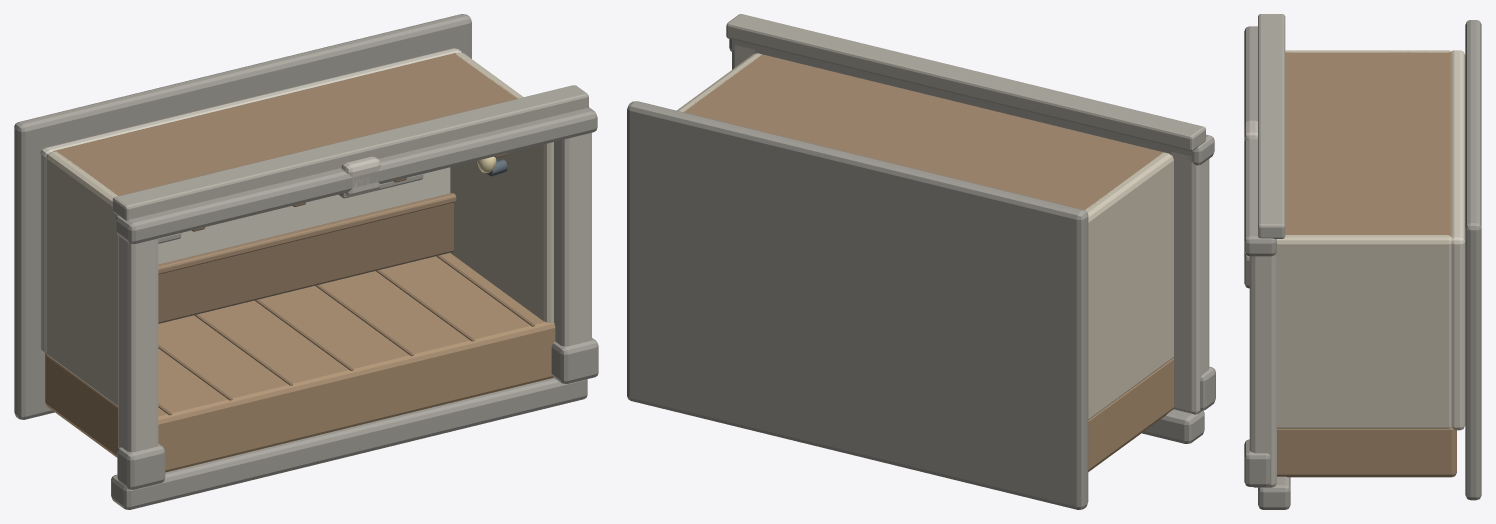
Rendered from room.glb.
The picture shows the model from 3 angles, left to right: view 1: azimuth 30°, elevation 25°; view 2: azimuth 150°, elevation 25°; view 3: azimuth 270°, elevation 25°; orthographic projection. The views are drawn at different scales.
Visible parts, largest first — view 1: room_Palette; view 2: room_Palette; view 3: room_Palette.
Part boxes in pixels (x1=…): room_Palette: x1=14, y1=14, x2=598, y2=509; room_Palette: x1=627, y1=14, x2=1215, y2=509; room_Palette: x1=1244, y1=14, x2=1481, y2=509.
Size of the model in its own units: 1.87 by 1.16 by 0.87.
